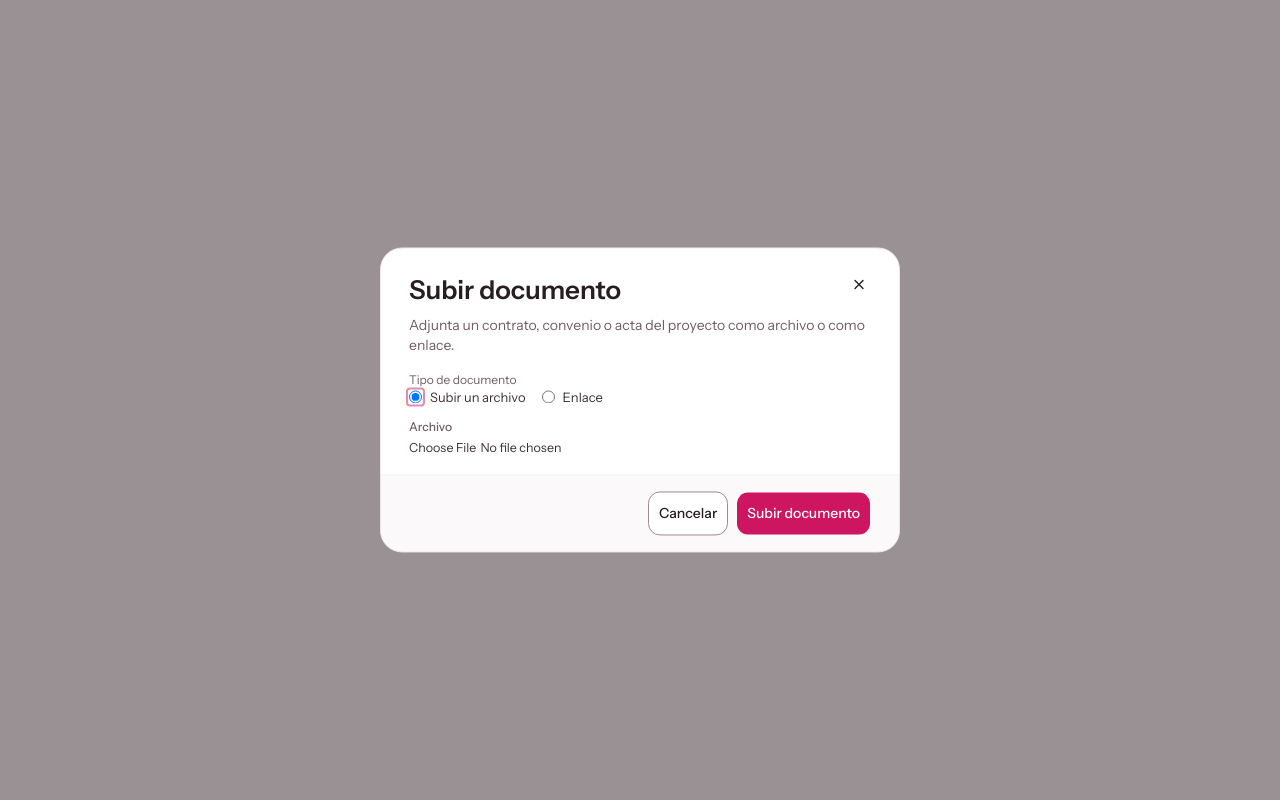
Scenario: SubirDocumentoDialog › shows the API error inline and stays open
Step 1. Click the radio button labelled "Enlace" → (548, 397), box x1=542 y1=391 x2=555 y2=404
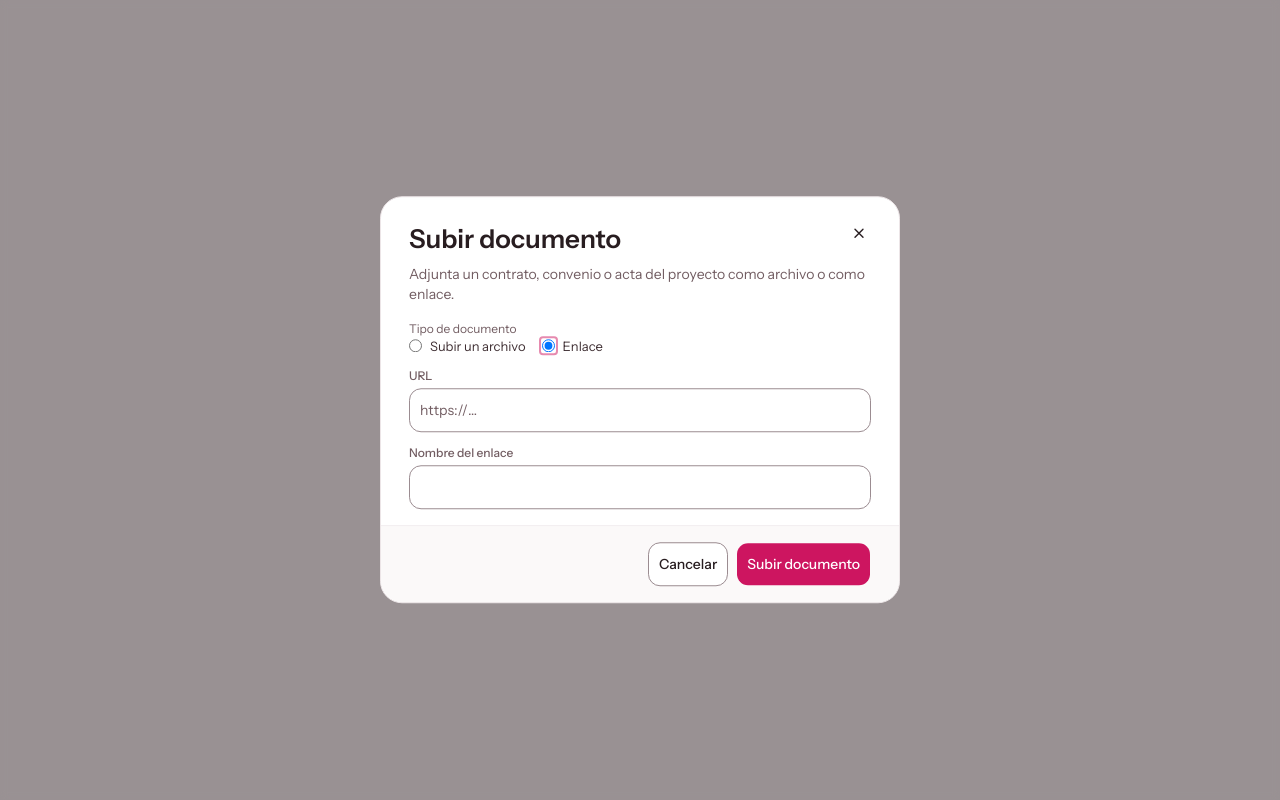
Step 2. Type "https://drive.example/acta" into the field labelled "URL" → (640, 411), box x1=409 y1=389 x2=871 y2=433
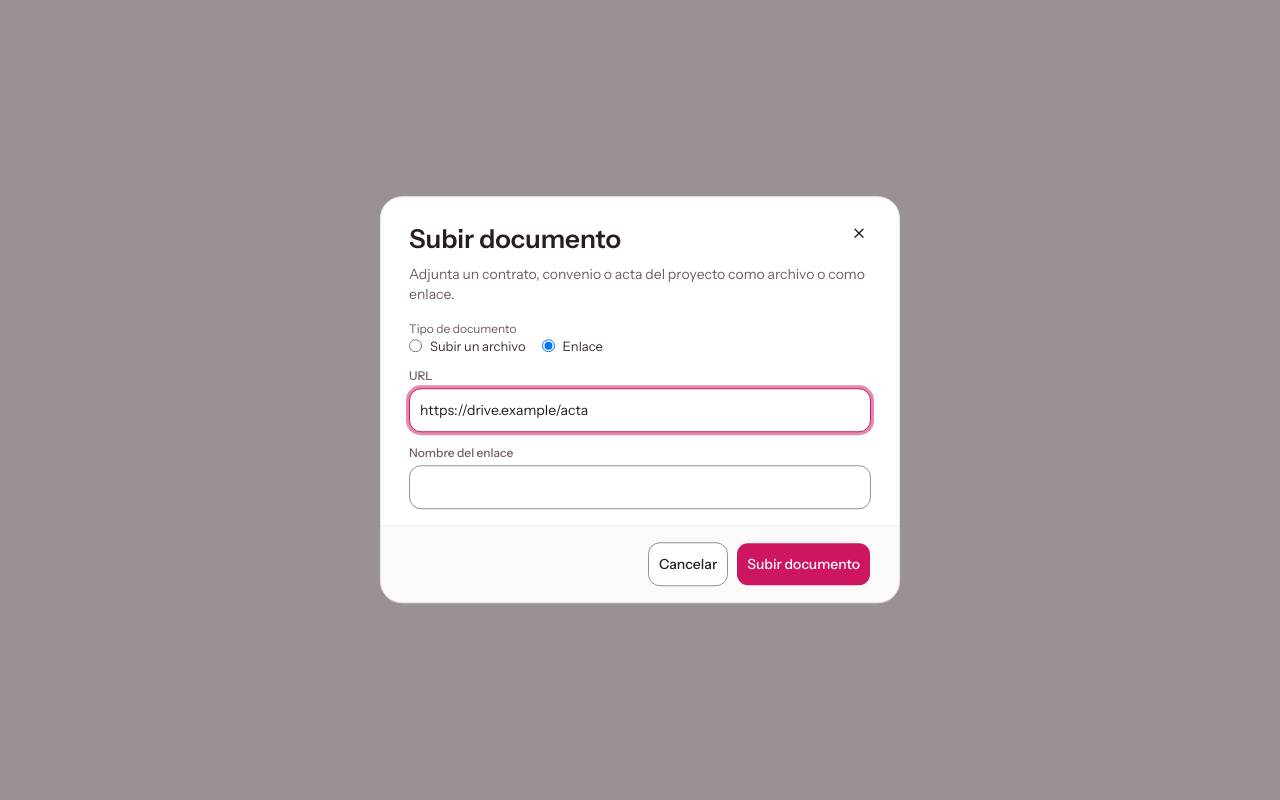
Step 3. Type "Acta" into the field labelled "Nombre del enlace" → (640, 488), box x1=409 y1=466 x2=871 y2=510
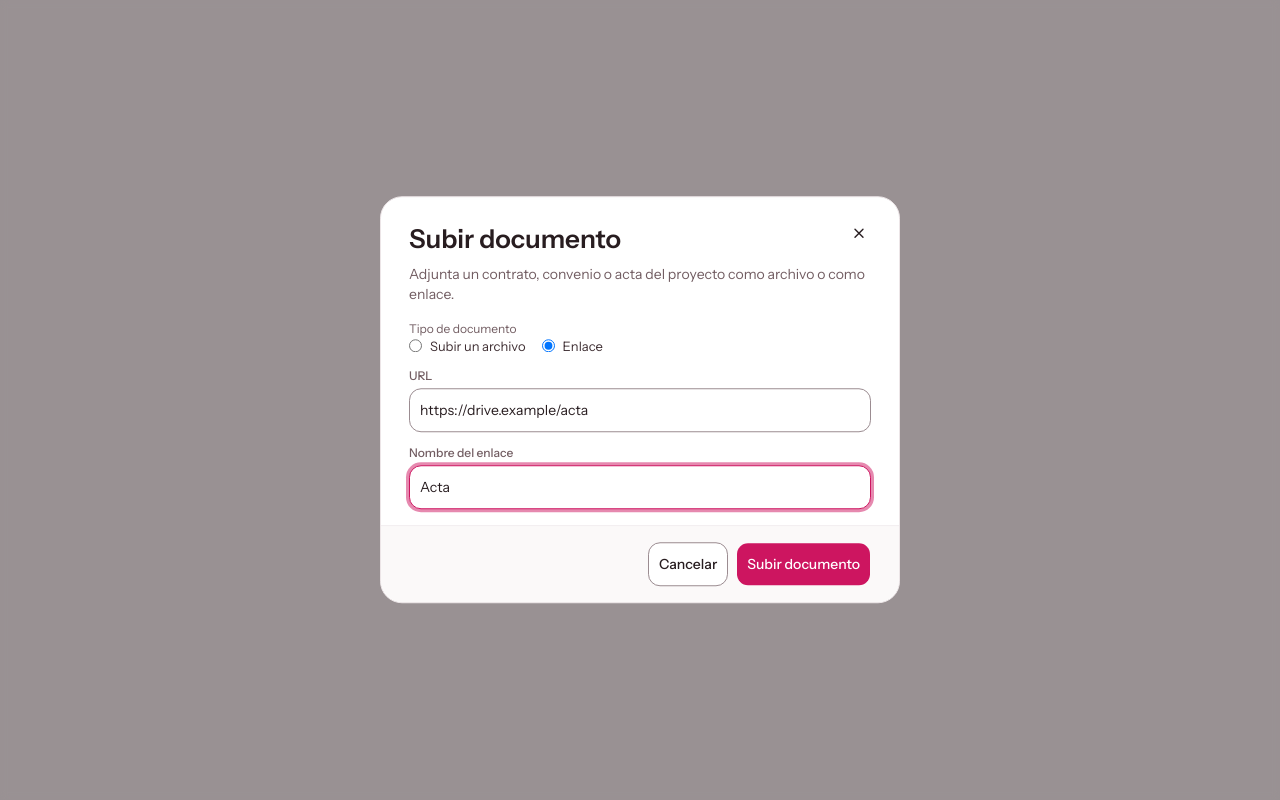
Step 4. Click the button "Subir documento" → (804, 565), box x1=736 y1=543 x2=871 y2=587
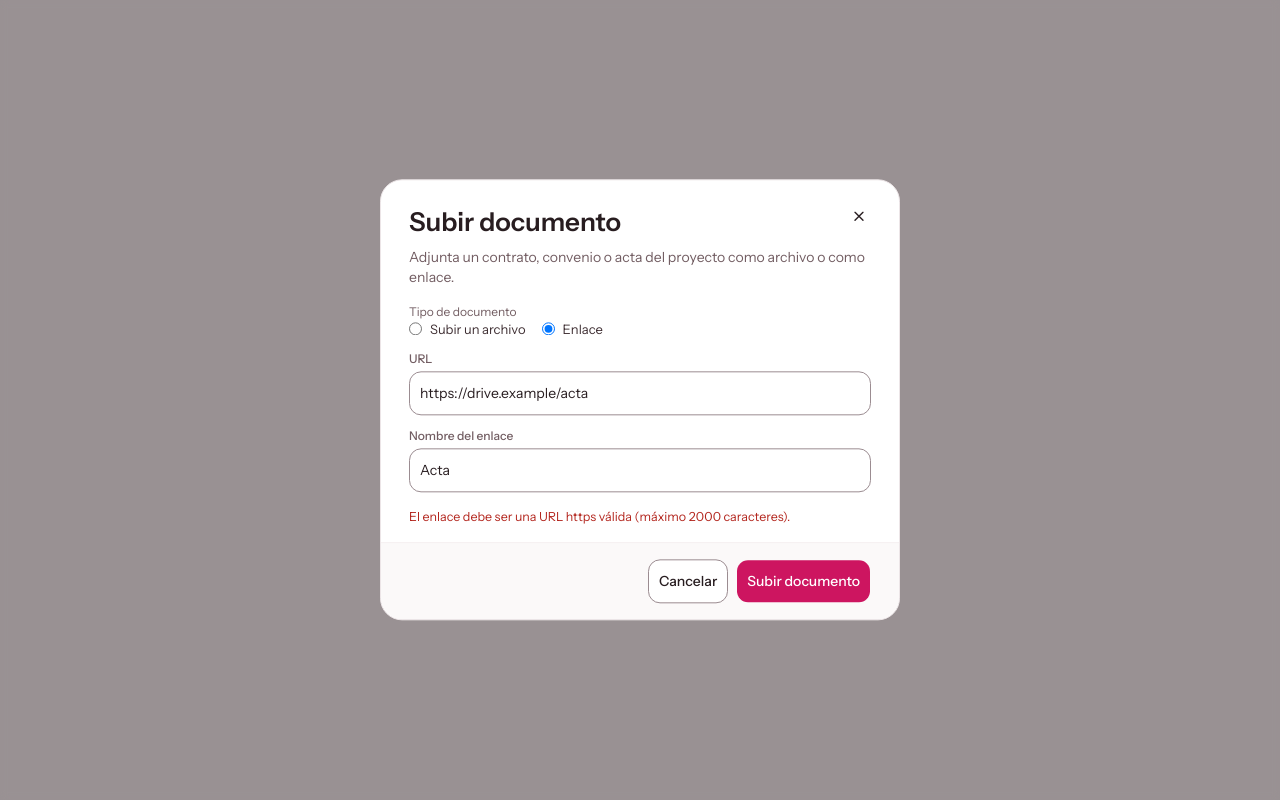
Check: the message shows "El enlace debe ser una URL https válida", box x1=409 y1=510 x2=790 y2=525
